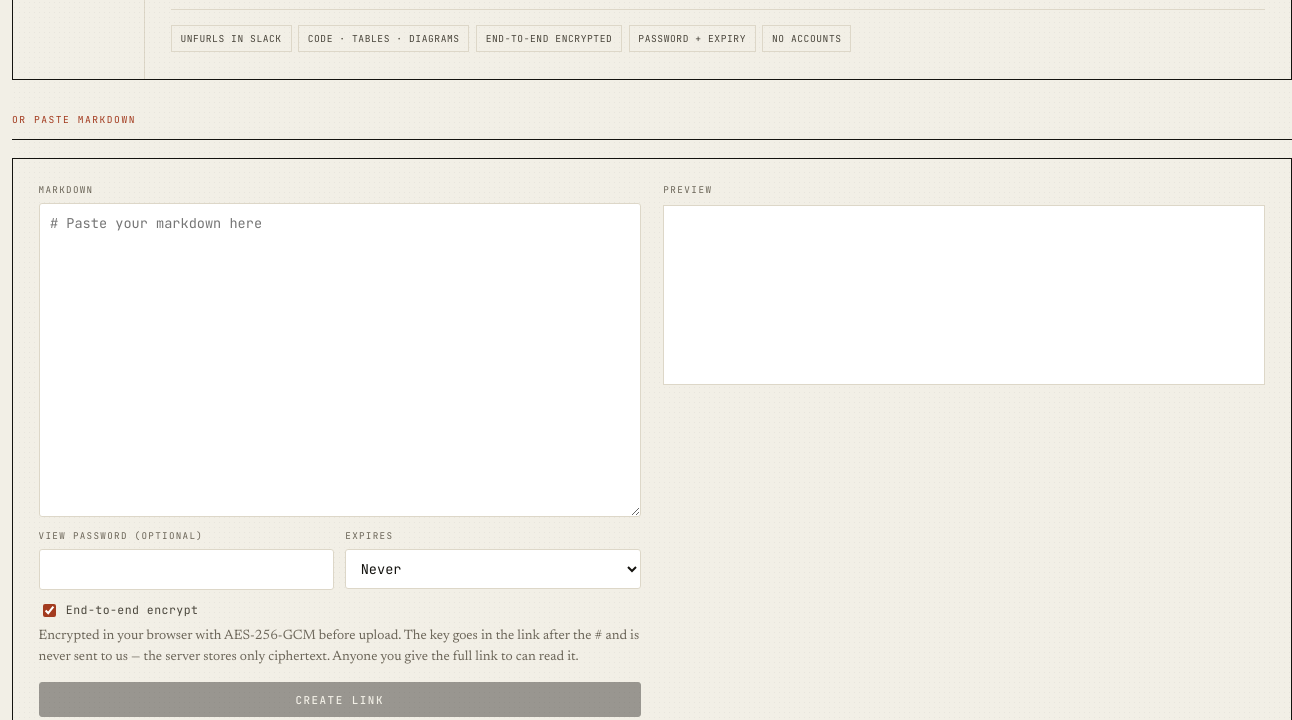
it: renders a live preview of the entered markdown
The image size is (1292, 720).
(page scrolled)
In the text box labelled "Markdown": (340, 360) top-left (39, 203), bottom-right (641, 518), type "# Live Heading"
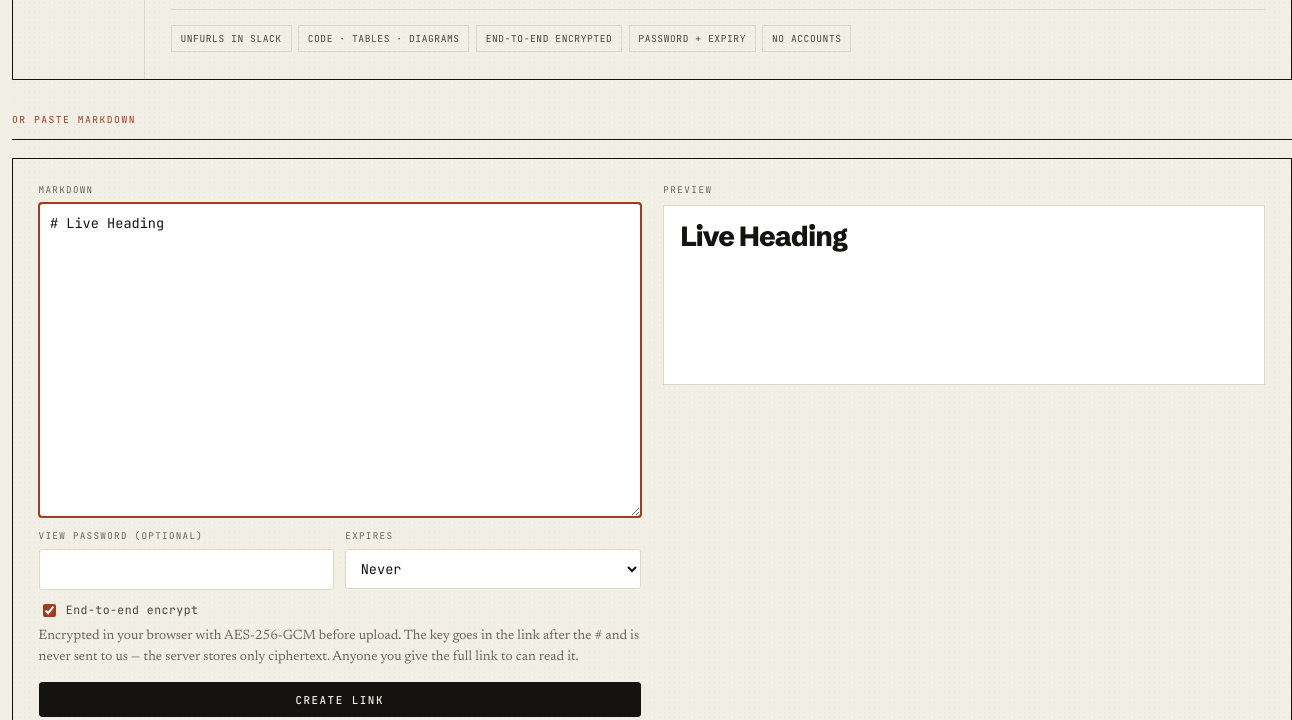
expect the heading "Live Heading" is shown: met, box top-left (680, 219), bottom-right (847, 253)
